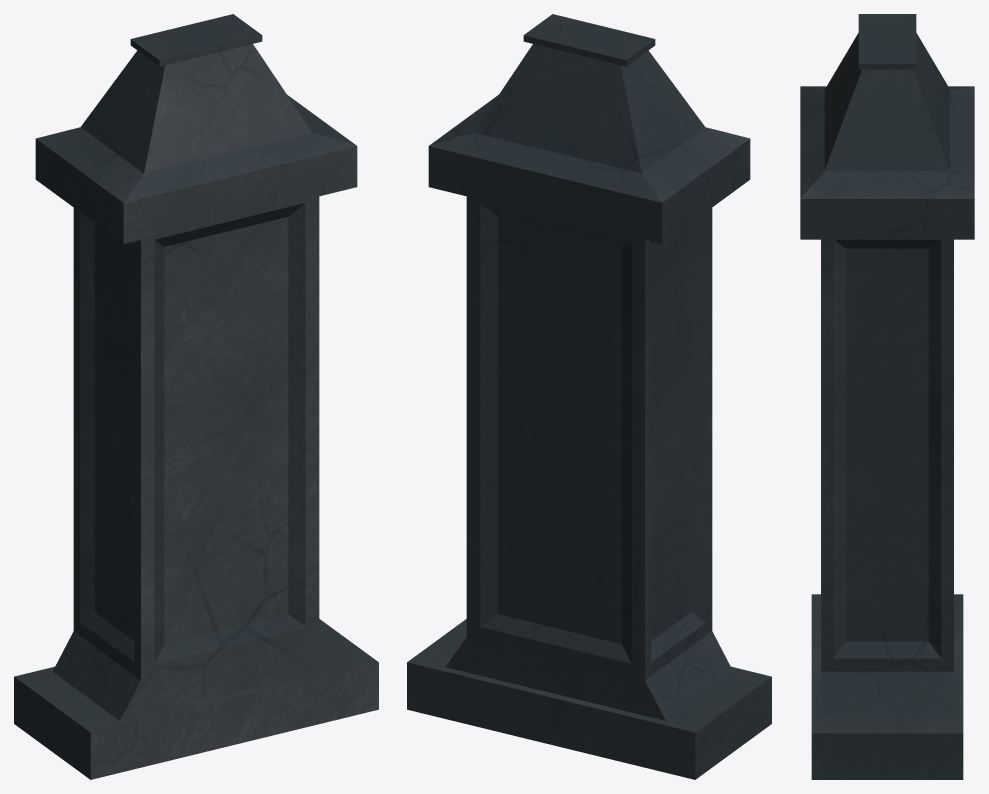
The model's file is Gravestone19_Model.fbx.
3 renders of one model, left to right at view 1: azimuth 30°, elevation 25°; view 2: azimuth 150°, elevation 25°; view 3: azimuth 270°, elevation 25°, orthographic.
Visible parts, largest first — view 1: Gravestone19_Model; view 2: Gravestone19_Model; view 3: Gravestone19_Model.
Boxes of the visible parts, box(x1,y1,x2,y2) form: Gravestone19_Model: box(14, 14, 378, 779); Gravestone19_Model: box(407, 14, 771, 779); Gravestone19_Model: box(800, 14, 974, 779).
Bounding box in the file's own units: 112 × 252 × 59.23.
